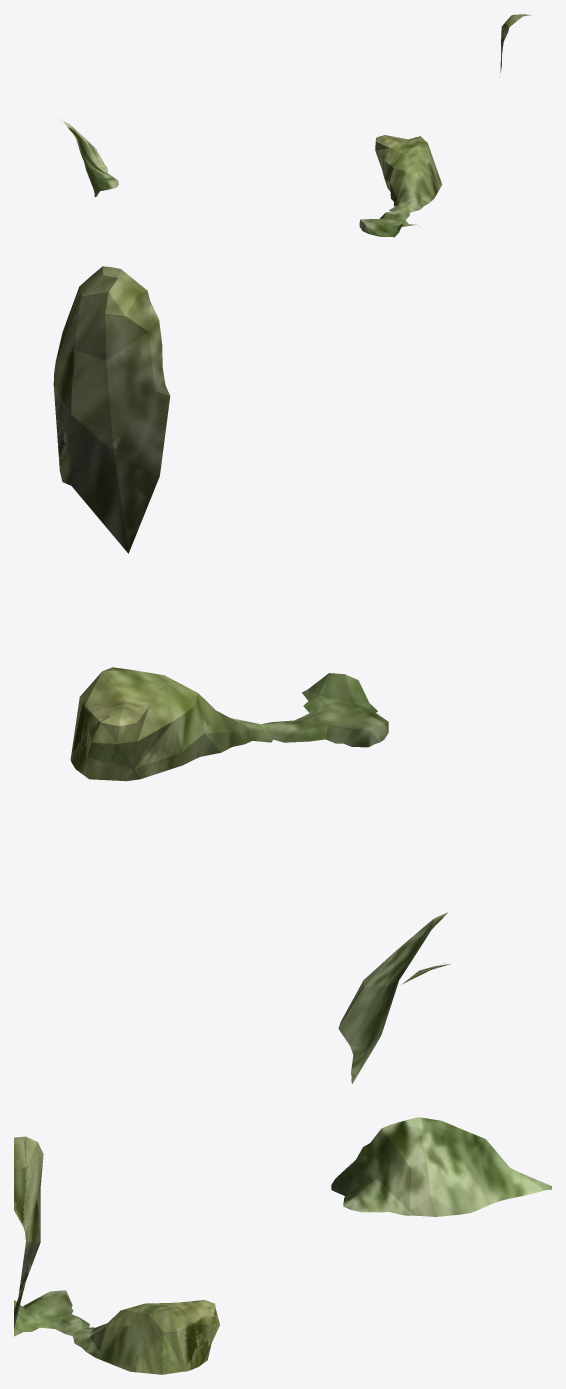
3 views of the same model, one above another, from view 1: azimuth 30°, elevation 25°; view 2: azimuth 150°, elevation 25°; view 3: azimuth 270°, elevation 25° (orthographic). The views are drawn at different scales.
Bounding box in the file's own units: 2.95 × 1.57 × 2.95.
Materials: 1 (1 with a texture image).
